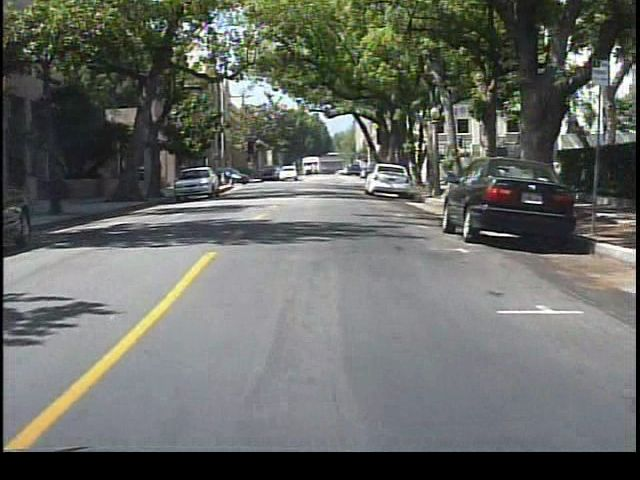car: (447, 164, 596, 253), (173, 163, 220, 201), (365, 163, 416, 196)
strada: (12, 248, 611, 440)
